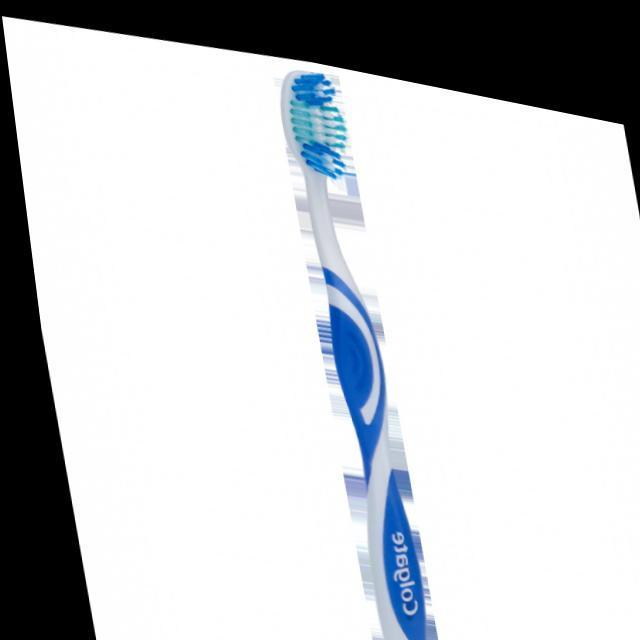toothbrush: (266, 46, 444, 640)
